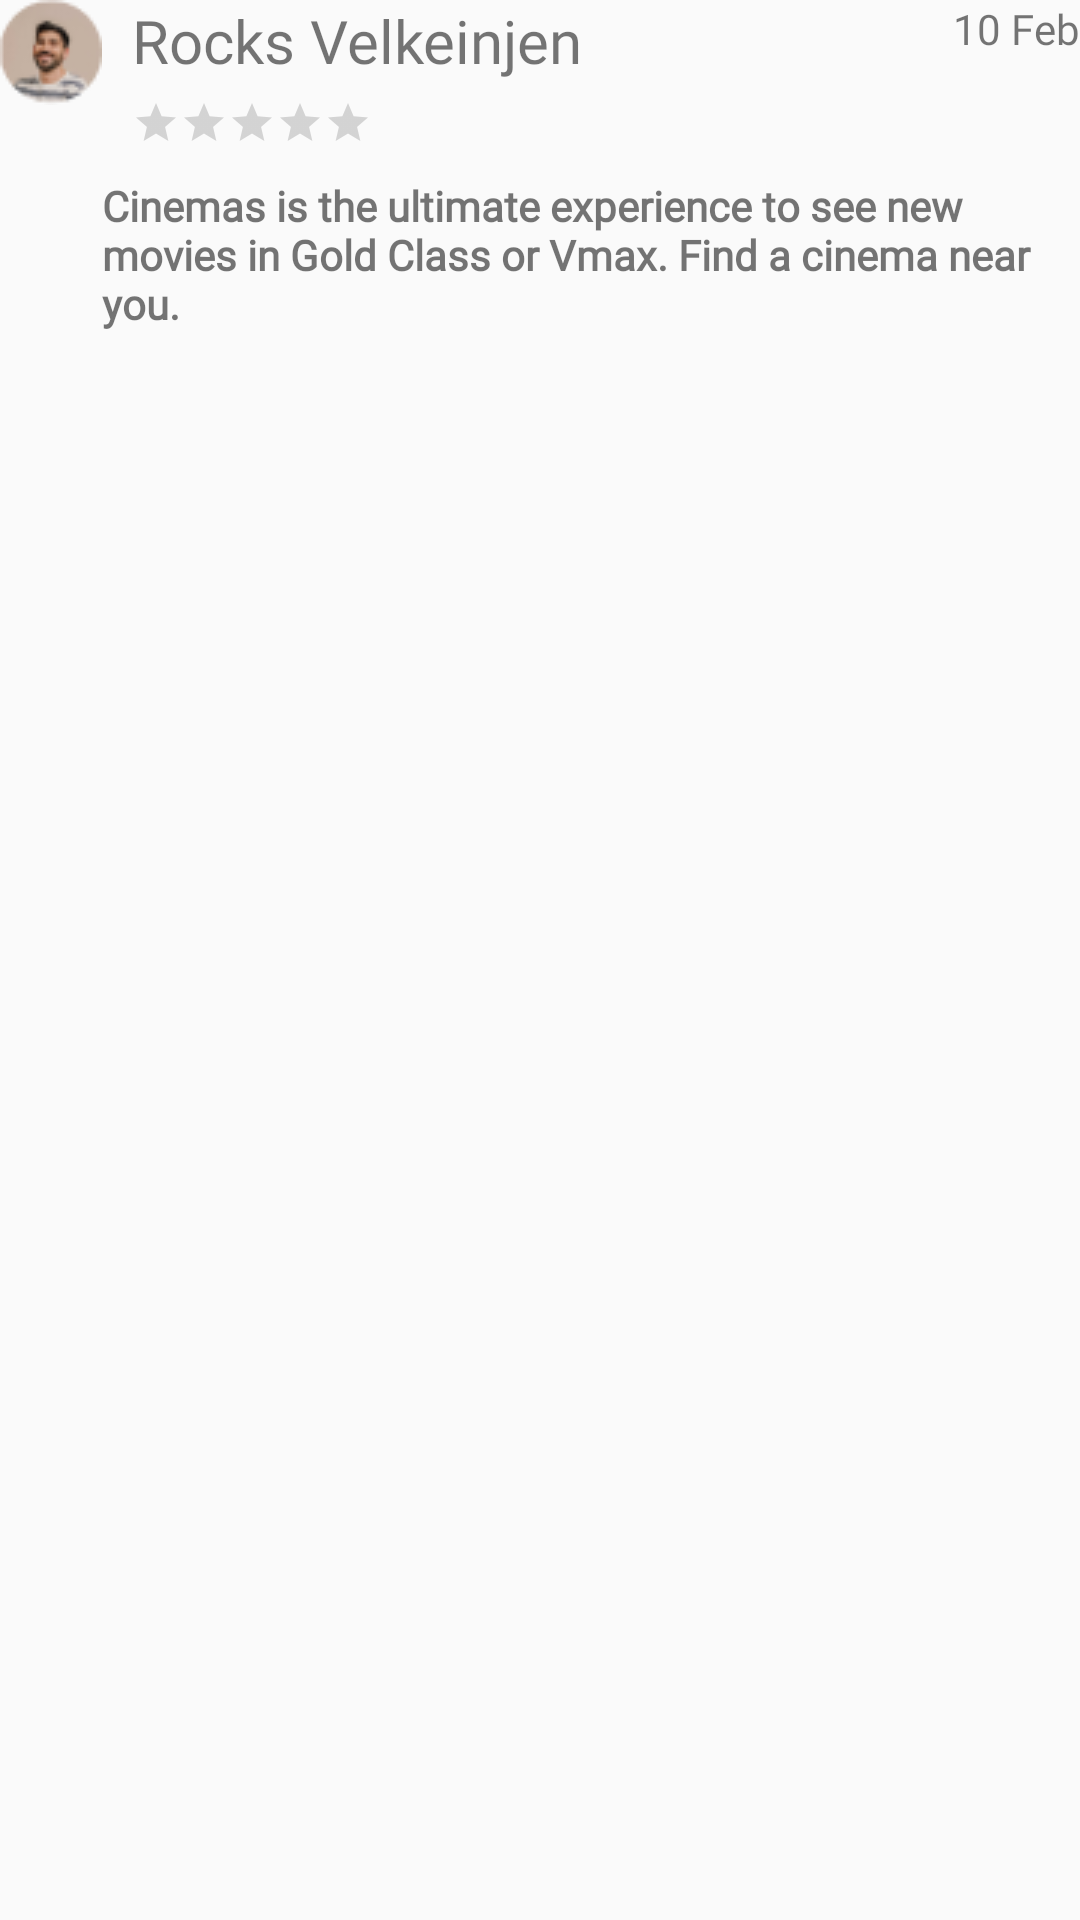

Where to tap for icons on this 1080*1920 app screen, as point (x, y):
personimage: point (51, 51)
